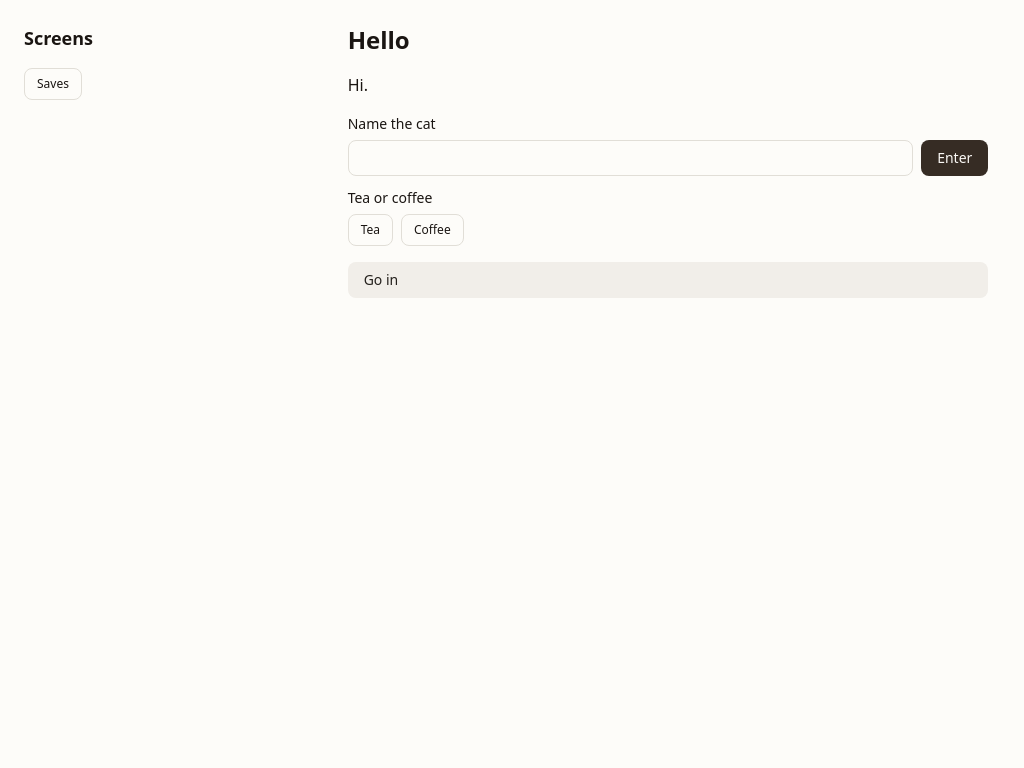
the React UI’s screens › saves, lists, and loads a slot
The width and height of the screenshot is (1024, 768).
Later steps or results of the test are not shown.
What coordinates should you click on to do the following:
click the button "Go in"
I would click on:
 (381, 280)
Its box is [348, 262, 988, 298].
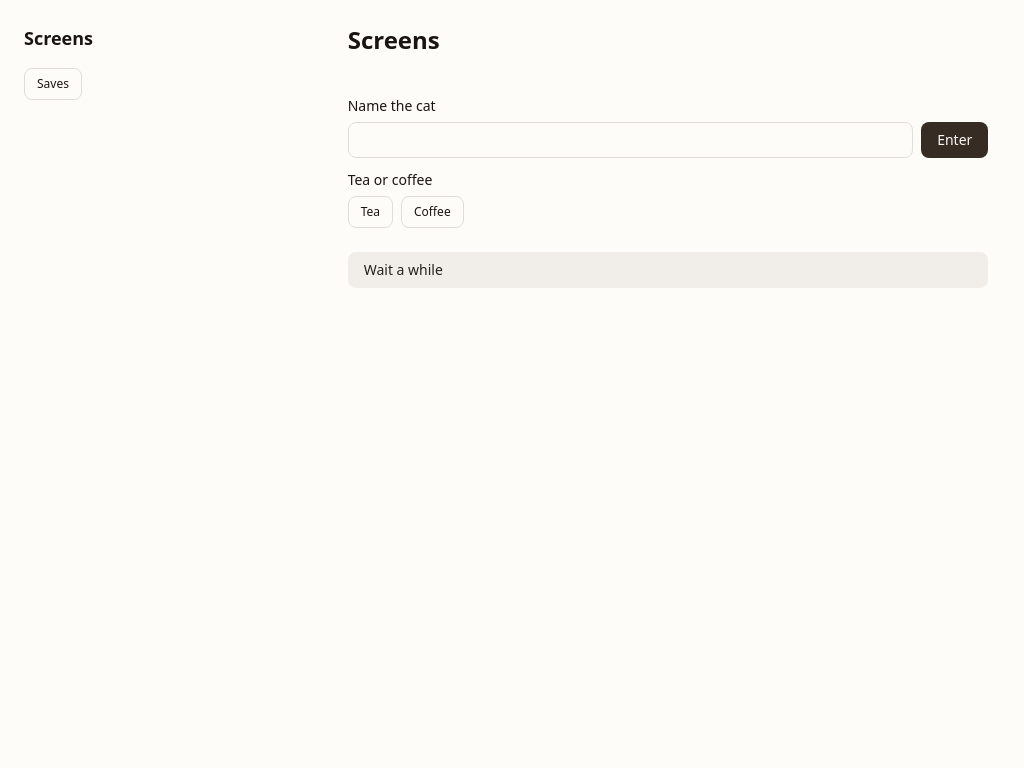
What coordinates should you click on to do the following:
click the button "Saves"
I would click on:
 (53, 84)
Its box is [24, 68, 82, 100].
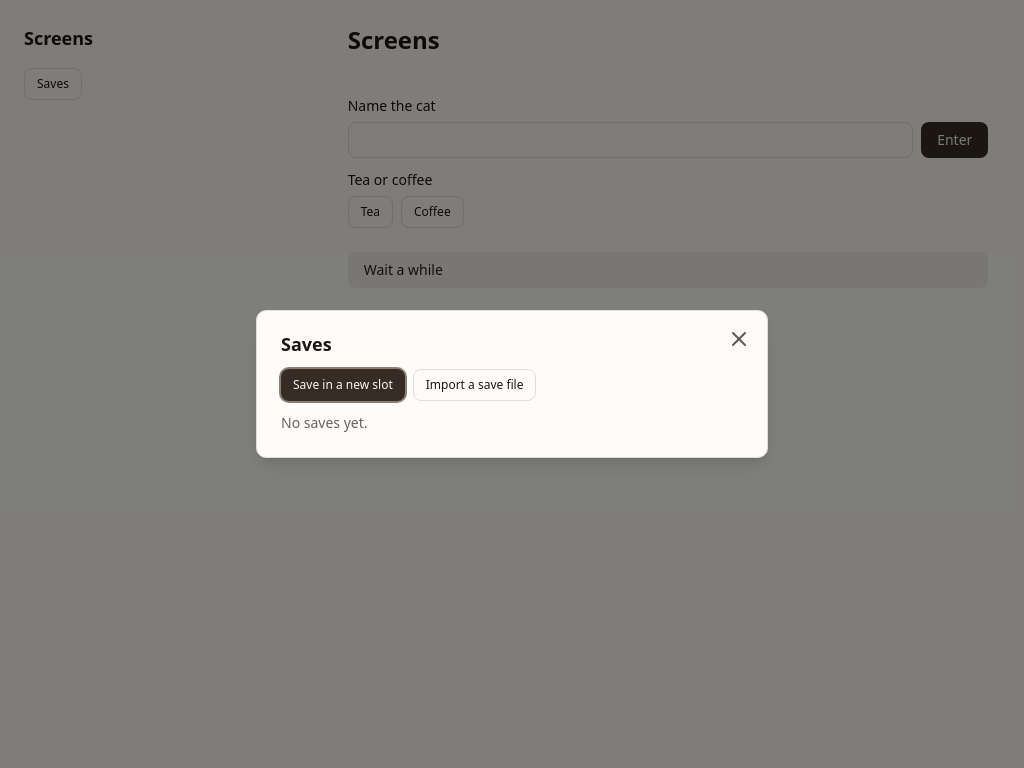
What coordinates should you click on to do the following:
click the button "Save in a new slot"
I would click on:
 (343, 385)
Its box is [281, 369, 405, 401].
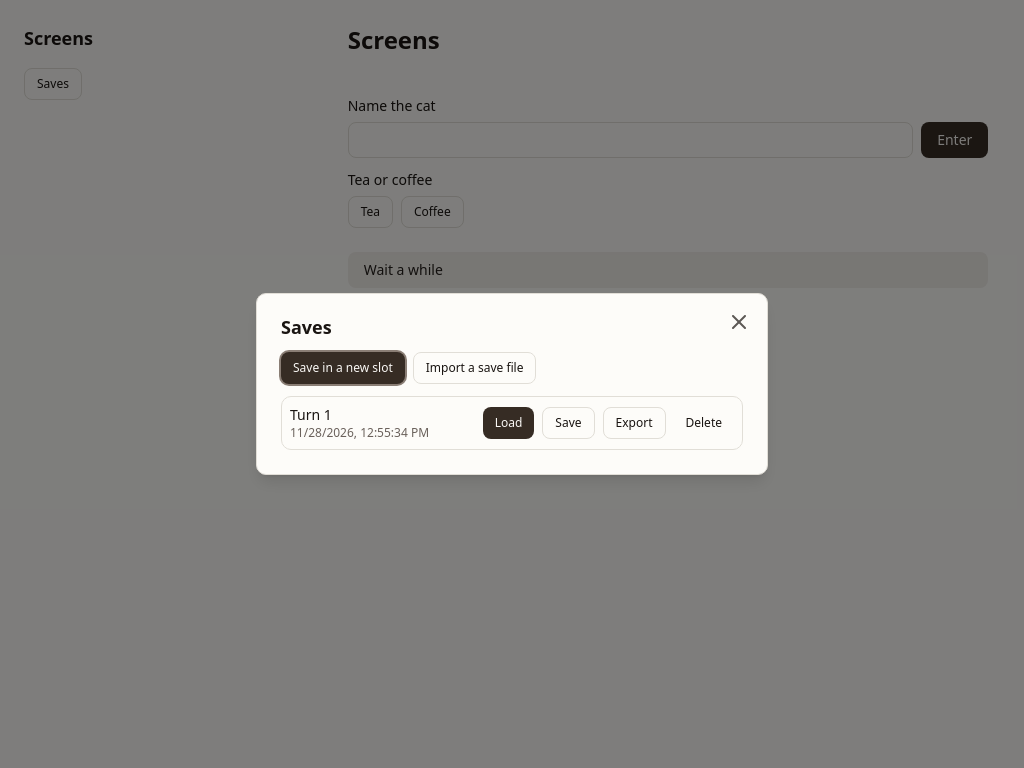
Now the list item "Turn 1 11/28/2026, 12:55:34 PM Load Save Export Delete" is shown, box [281, 396, 743, 450]
What coordinates should you click on to do the following:
click the button named "Close"
I would click on:
 (739, 322)
Its box is [727, 310, 751, 334].
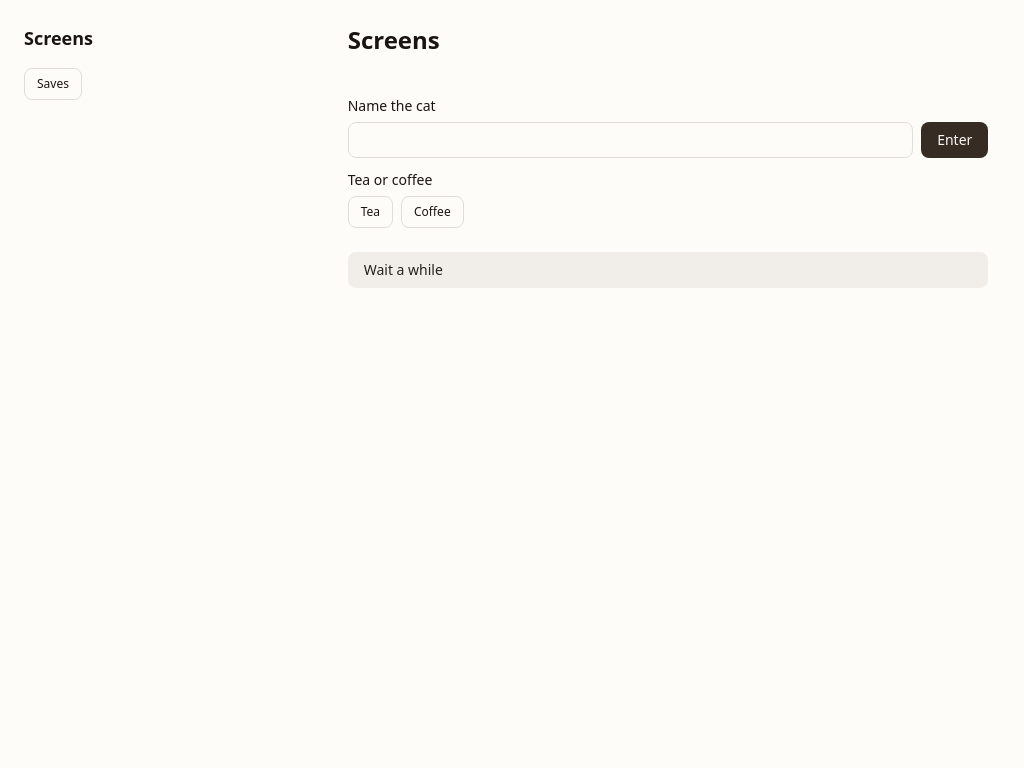
What coordinates should you click on to do the following:
click the button "Wait a while"
I would click on:
 (403, 270)
Its box is [348, 252, 988, 288].
What coordinates should you click on to do the following:
click the button "Saves"
I would click on:
 (53, 84)
Its box is [24, 68, 82, 100].
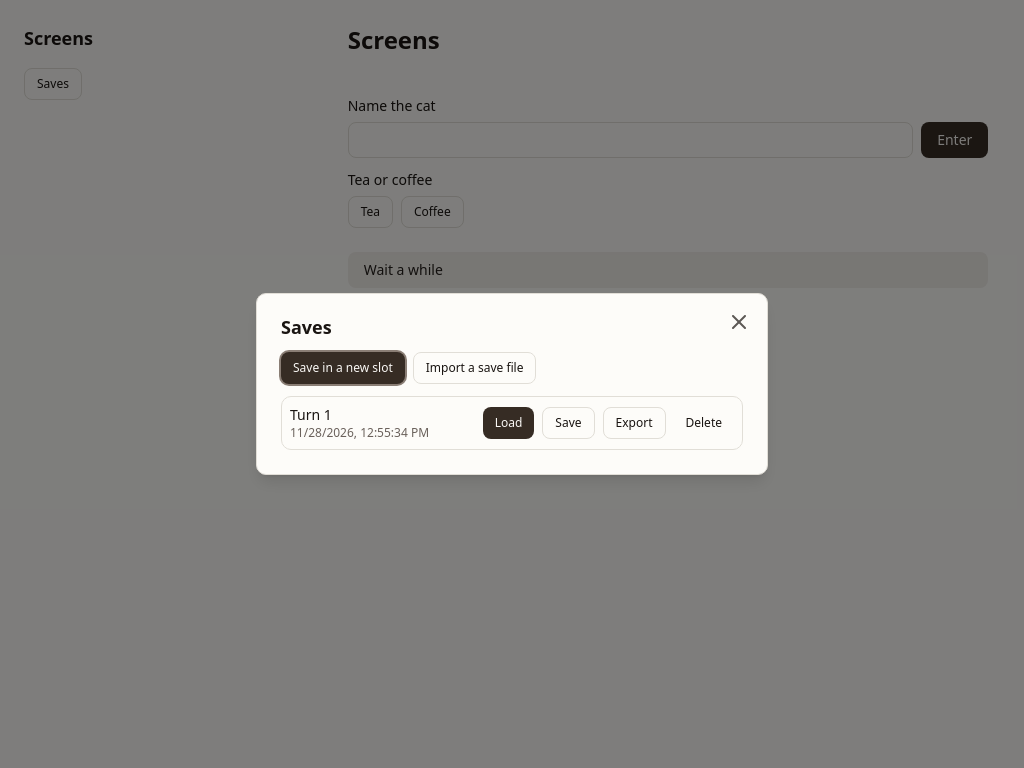
Now the list item "Turn 1 11/28/2026, 12:55:34 PM Load Save Export Delete" is shown, box [281, 396, 743, 450]
